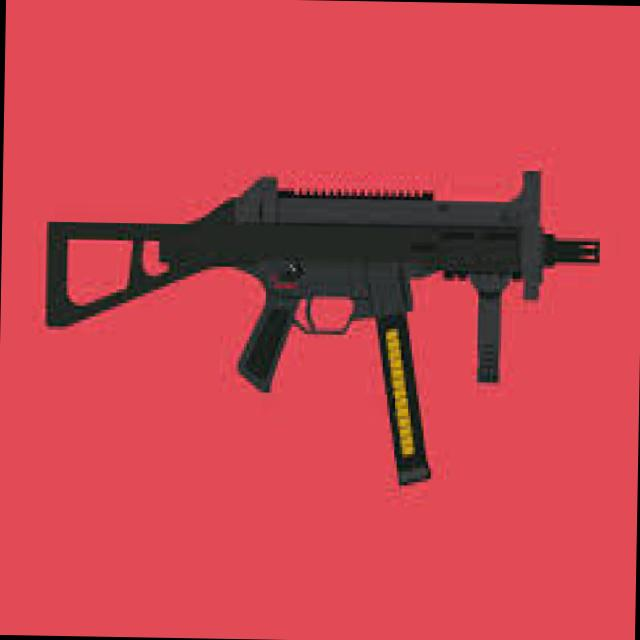Gun: (36, 126, 592, 498)
